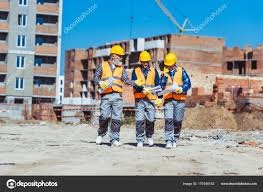yellow: (163, 52, 178, 71), (137, 50, 152, 68), (109, 45, 124, 63)
